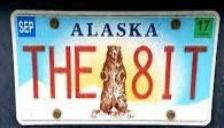8: (130, 44, 156, 100)
E: (74, 44, 98, 100)
H: (49, 44, 72, 101)
I: (157, 44, 178, 102)
T: (181, 44, 210, 101), (22, 43, 47, 102)
